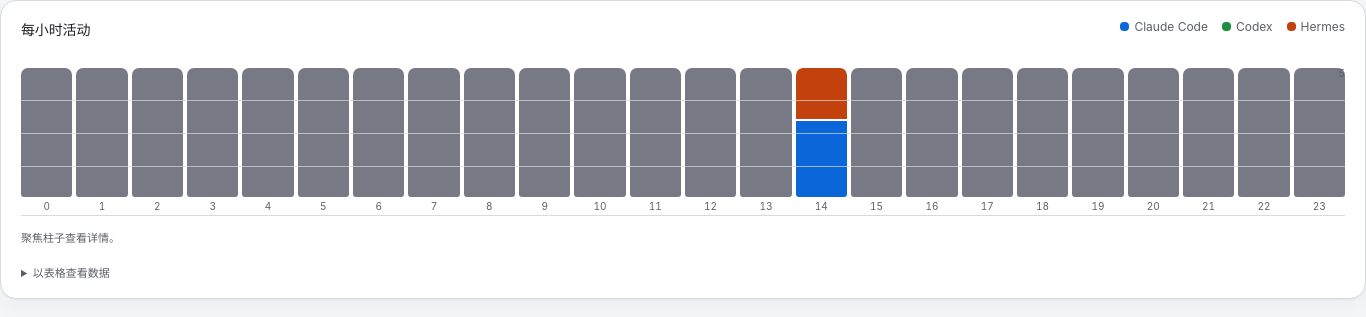
HourlyActivityChart › shows focus, keyboard, and hover details for the active hour
The image size is (1366, 317).
Focus the button "14". click: (821, 142)
box: [796, 68, 847, 215]
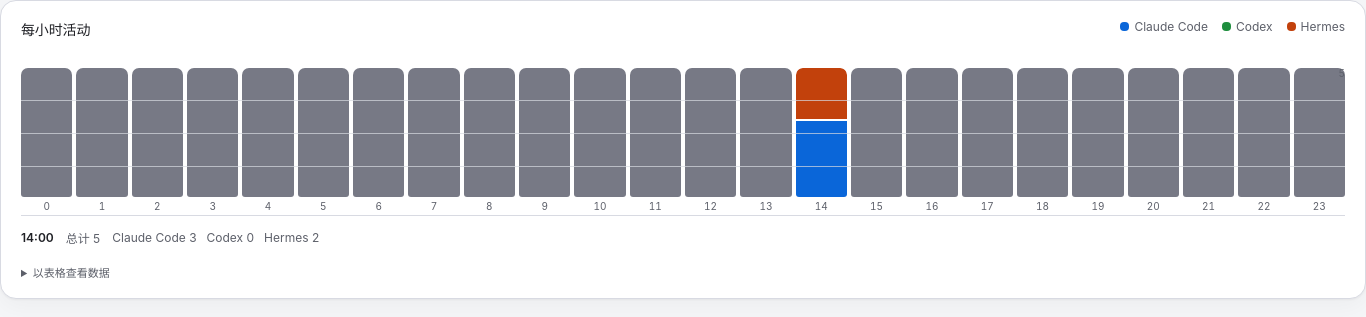
Result: the element with class "hourly-detail" shows "14:00" at [21, 230, 54, 244]
Result: the element with class "hourly-detail" shows "总计 5" at [66, 230, 100, 246]
Result: the element with class "hourly-detail" shows "Hermes 2" at [21, 230, 319, 246]
Leave the button "14", box [796, 68, 847, 215]
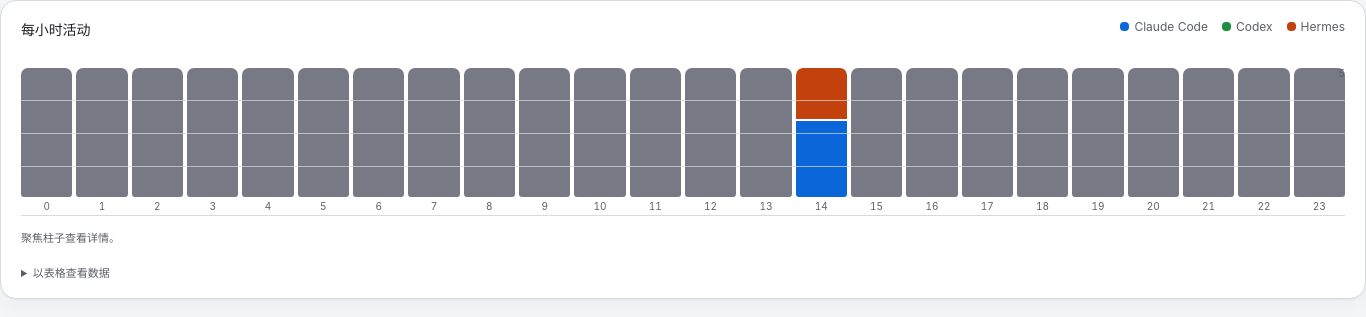
Press Enter in the button "14", box [796, 68, 847, 215]
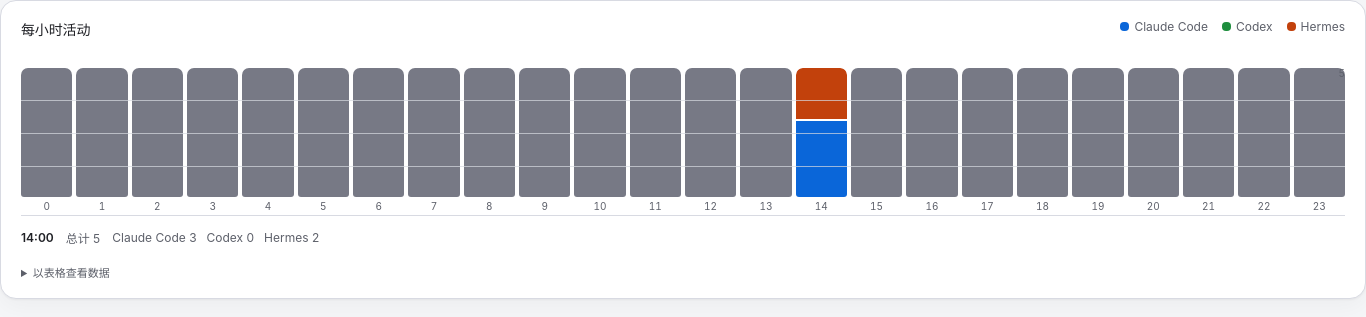
Result: the element with class "hourly-detail" shows "14:00" at [21, 230, 54, 244]
Press Space in the button "14", box [796, 68, 847, 215]
Result: the element with class "hourly-detail" shows "总计 5" at [66, 230, 100, 246]
Hover over the button "8" at (489, 142), box [464, 68, 515, 215]
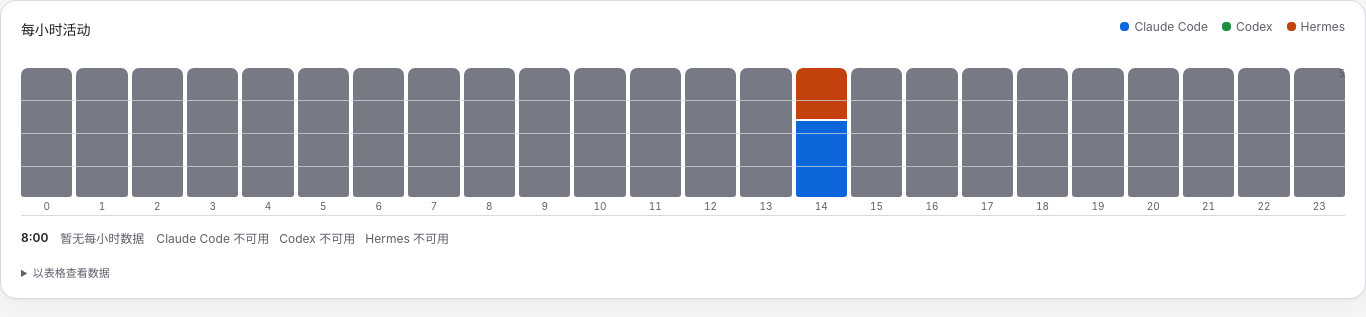
Result: the element with class "hourly-detail" shows "8:00" at [21, 230, 48, 244]
